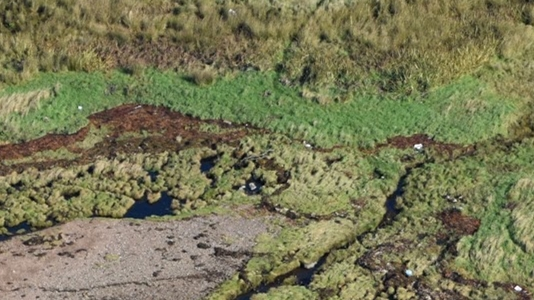white_in_green: (397, 126, 442, 166), (59, 87, 101, 126), (502, 270, 534, 300)
